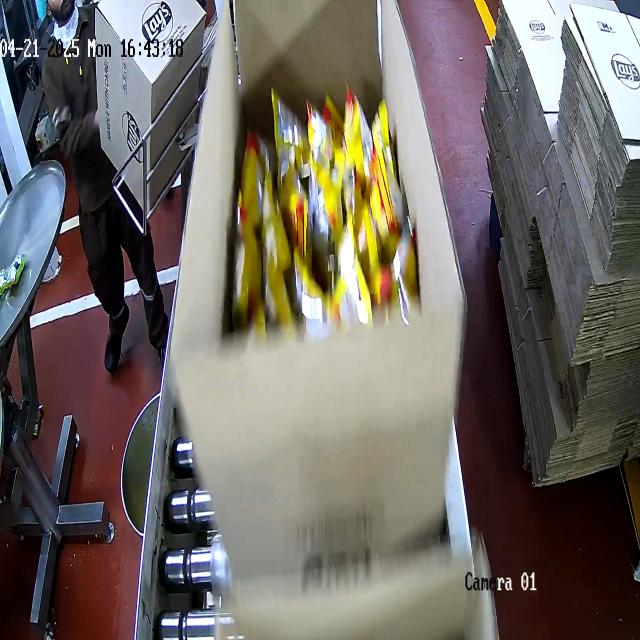SALTED: (225, 75, 407, 342)
